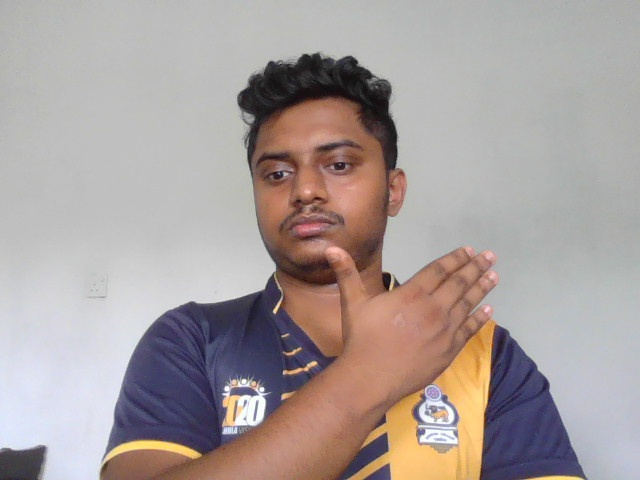Please: (322, 243, 502, 401)
